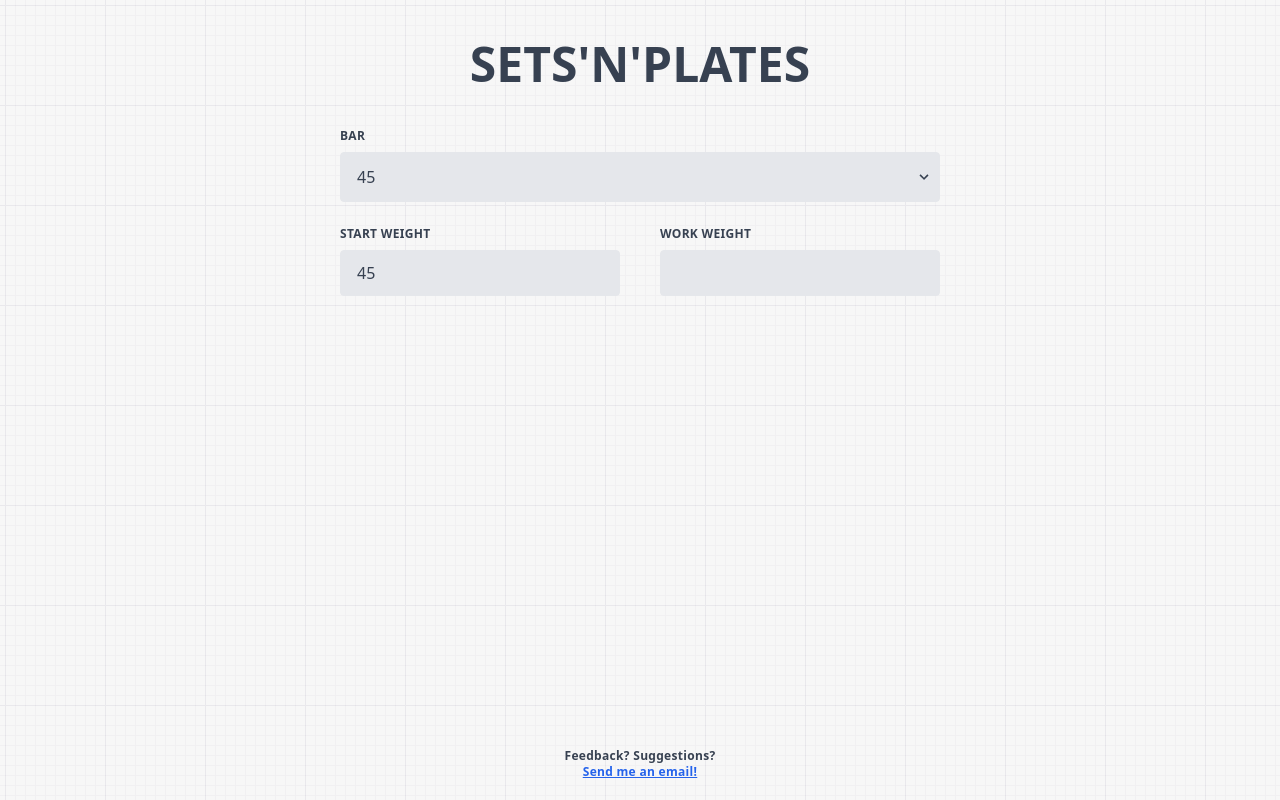
Scenario: Sets page › shows helpful error text when start weight is greater than work weight
Select "15" in the dropdown labelled "Bar" at point(640, 177), box [340,152,940,202]
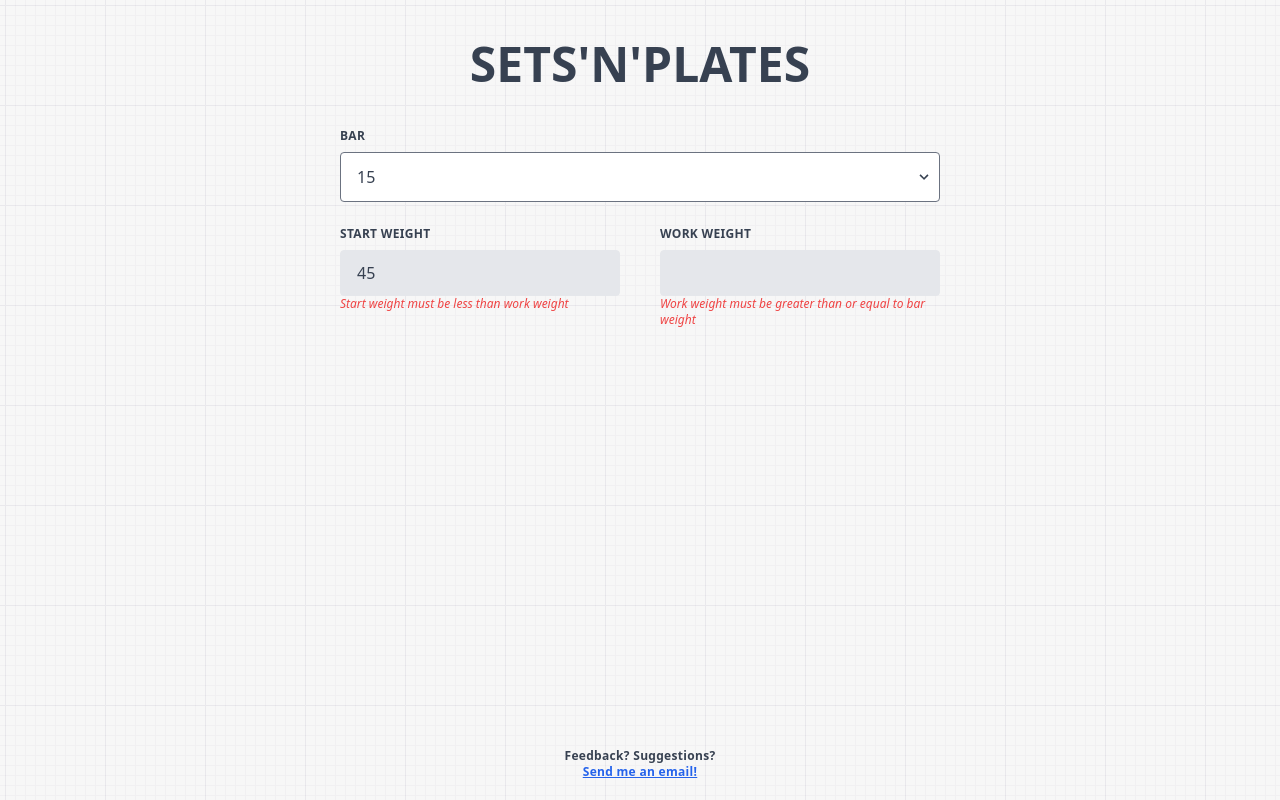
Replace the text in the field labelled "Start Weight" with "40" at point(480, 273), box [340,250,620,296]
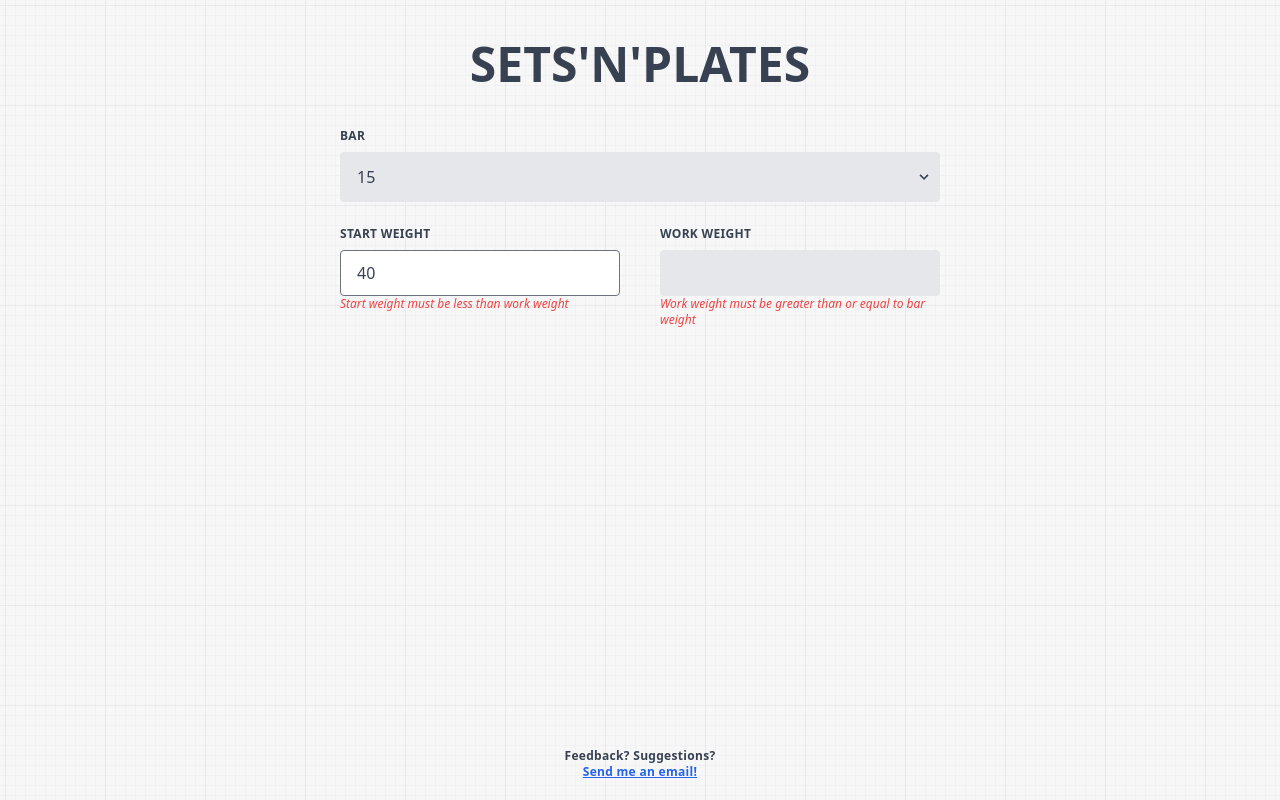
Type "20" into the field labelled "Work Weight" at point(800, 273), box [660,250,940,296]
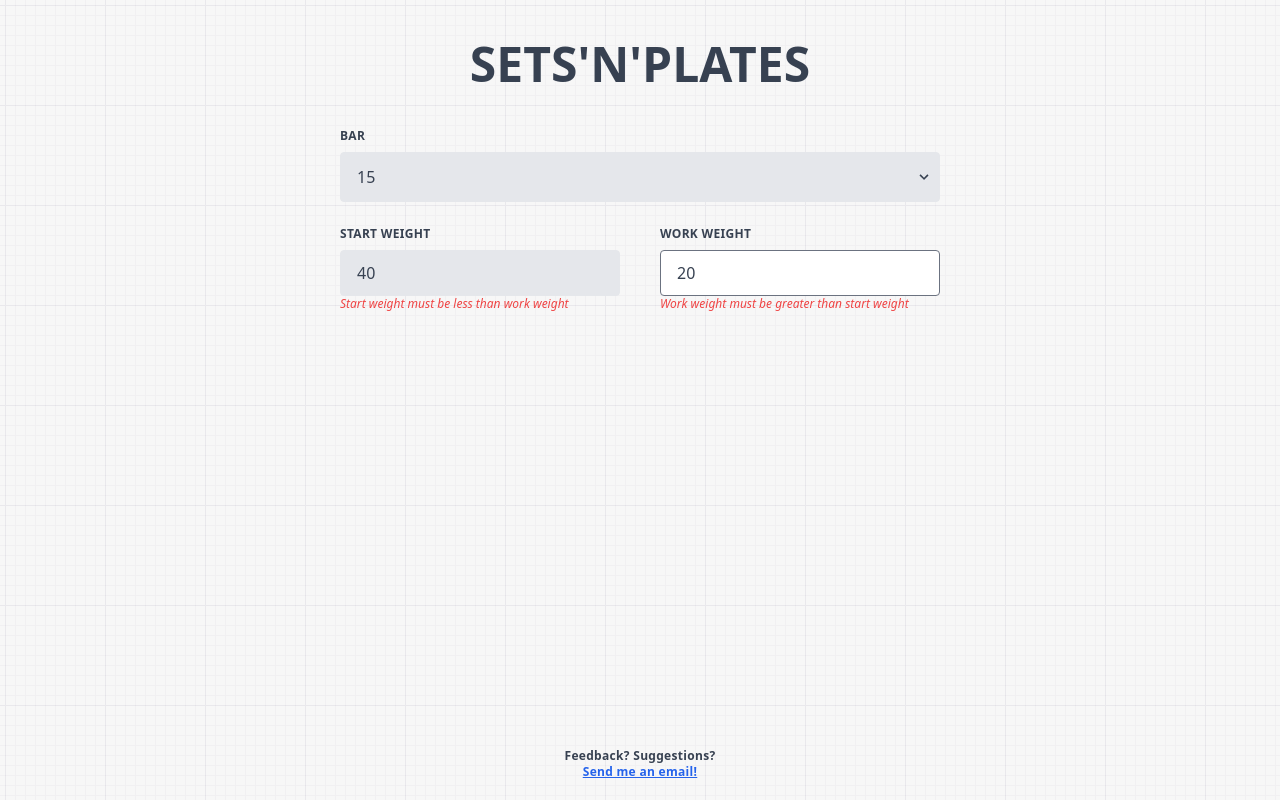
Check: the text "Start weight must be less than work weight" is shown, box [340,295,569,312]
Check: the text "Work weight must be greater than start weight" is shown, box [660,296,940,312]
